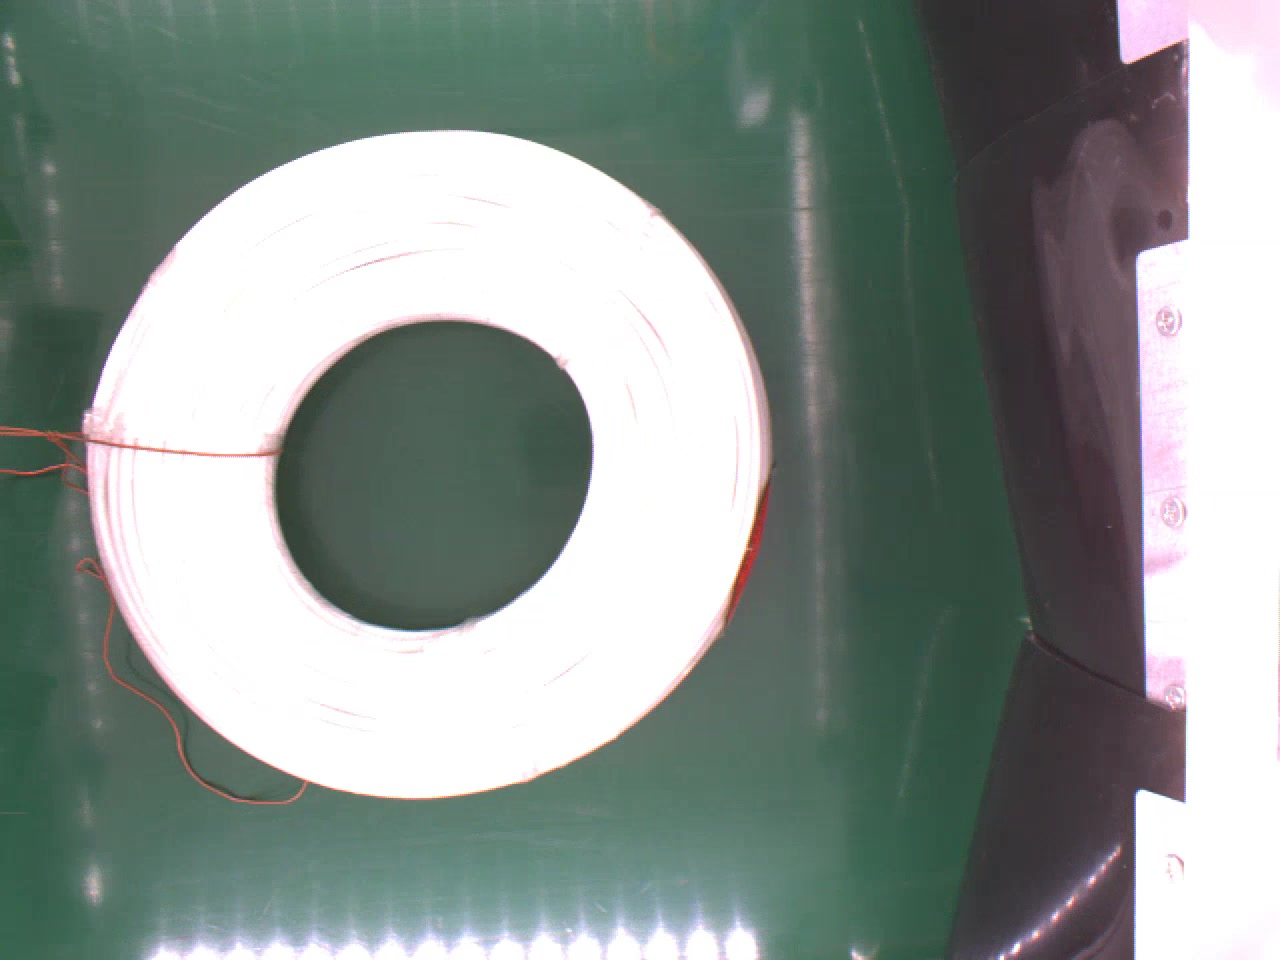white: (82, 122, 763, 794)
